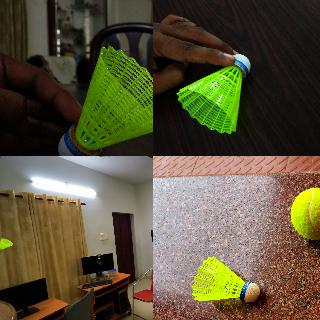shuttlecock: (57, 46, 152, 155), (176, 54, 250, 132), (192, 256, 260, 302), (0, 238, 13, 253)
